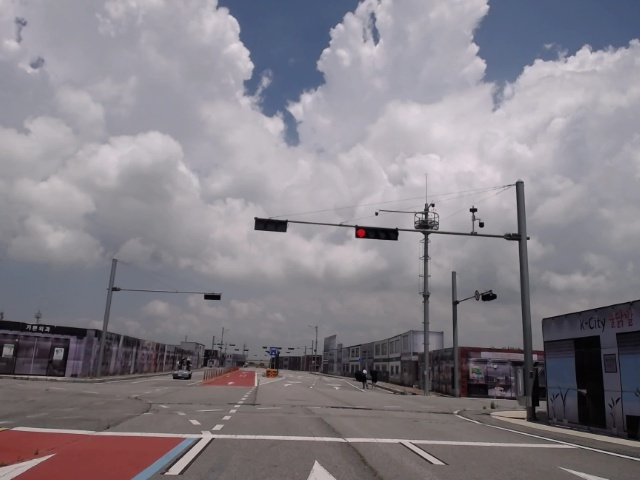red_4: (356, 227, 397, 240)
